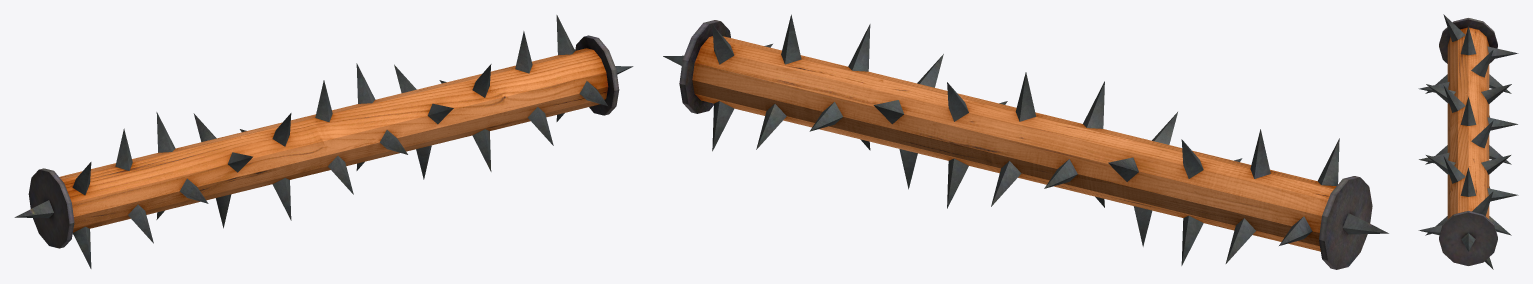
The model's file is spikepost.obj.
3 renders of one model, left to right at view 1: azimuth 30°, elevation 25°; view 2: azimuth 150°, elevation 25°; view 3: azimuth 270°, elevation 25°, orthographic. The views are drawn at different scales.
Parts seen in each view (by area): view 1: RoadKillOut; view 2: RoadKillOut; view 3: RoadKillOut.
Part boxes in pixels (x1,y1,x2,y2): RoadKillOut: (14,15,633,268); RoadKillOut: (663,14,1388,269); RoadKillOut: (1418,14,1518,269).
Bounding box in the file's own units: 6.2 × 1.2 × 1.2.
